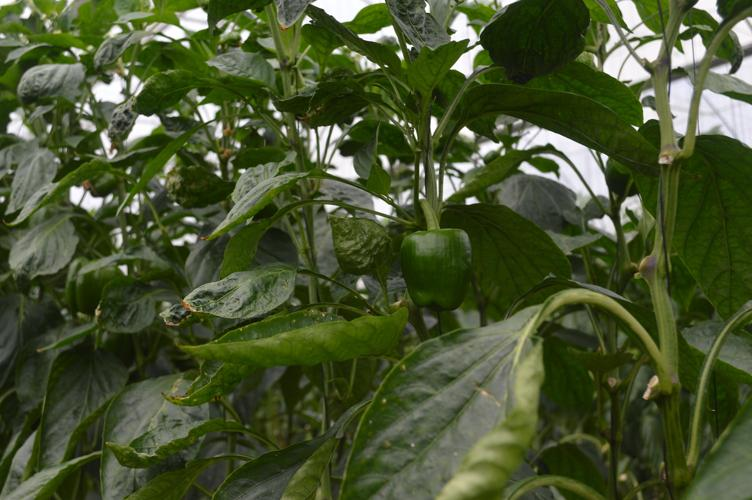BellPepper: (399, 230, 473, 313), (60, 259, 118, 319)
